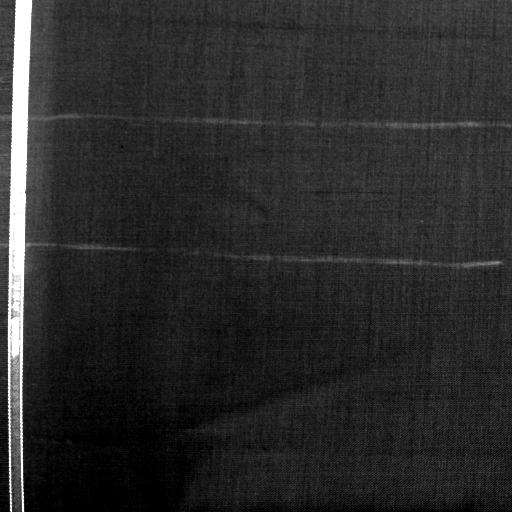fabric_broken_pick: (291, 174, 399, 212)
